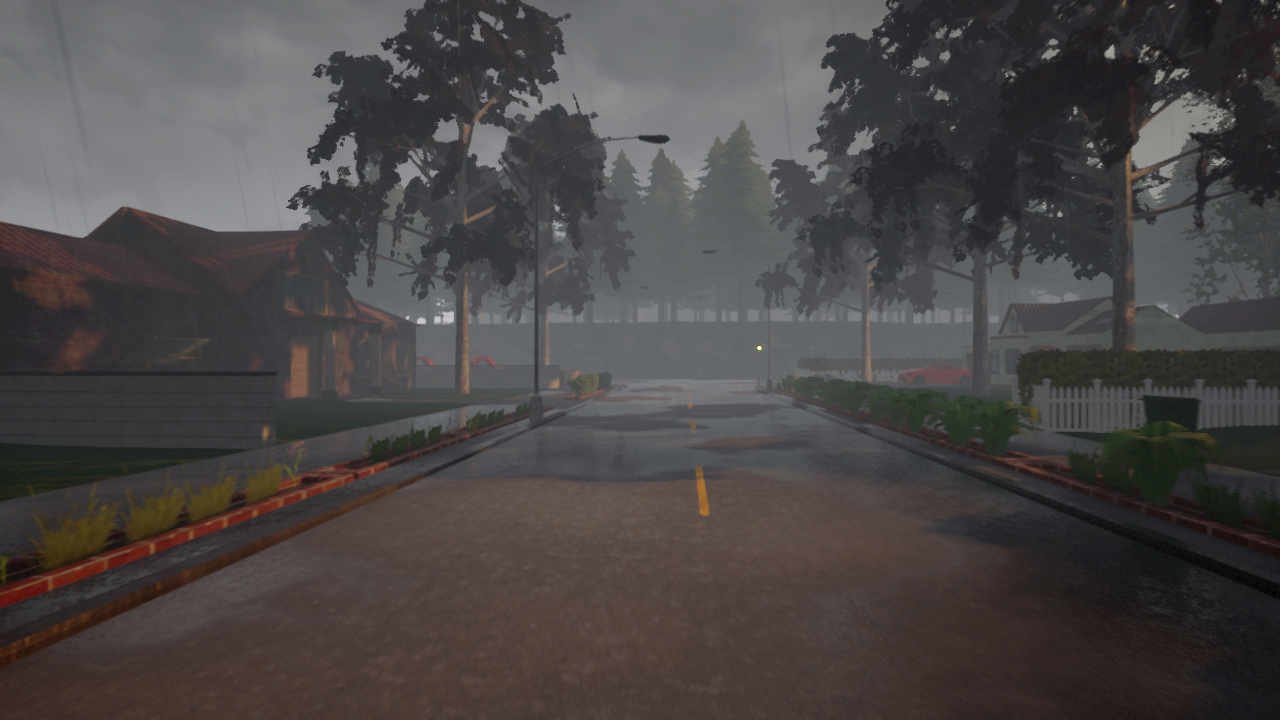yellow: (755, 340, 763, 356)
